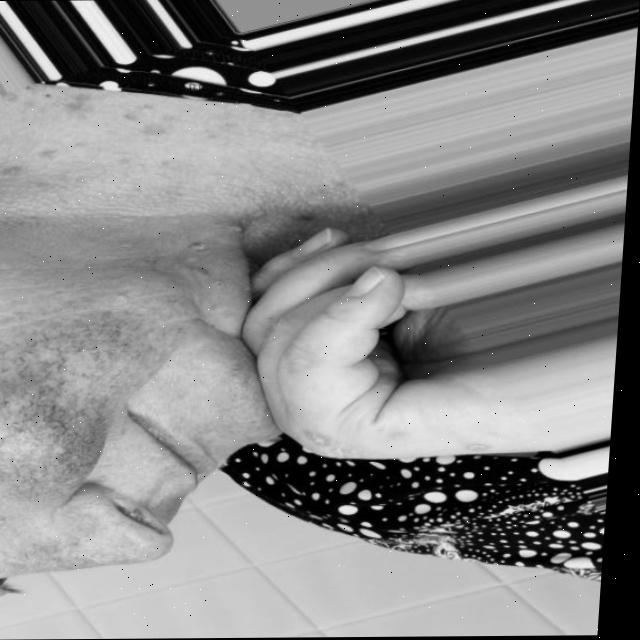Rosacea: (0, 324, 135, 494)
